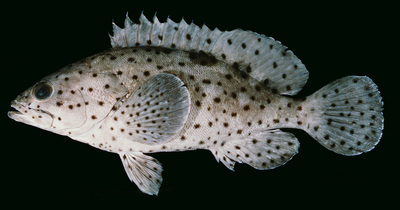fish: (8, 10, 385, 196)
